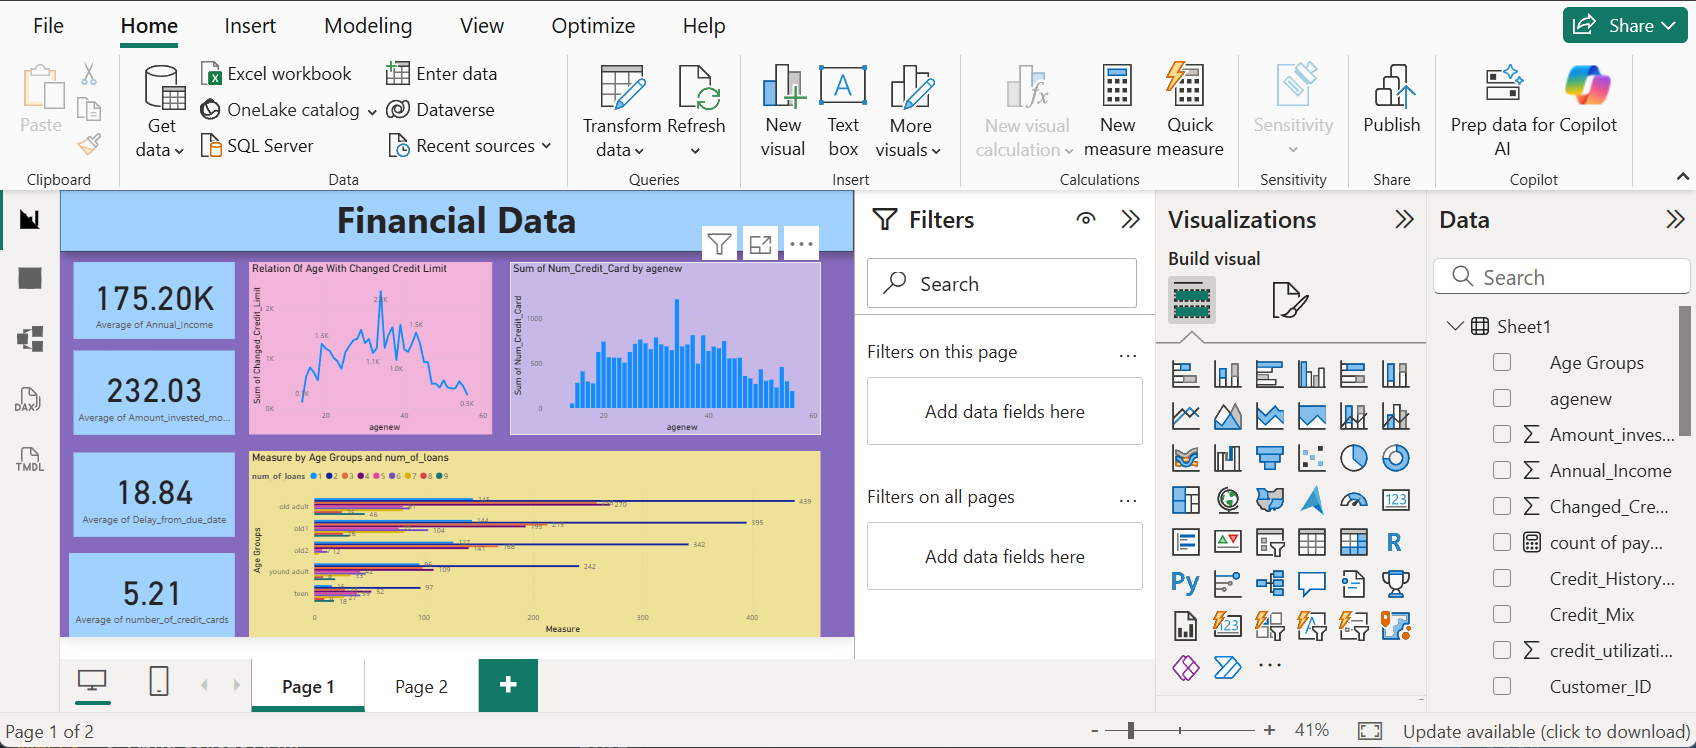

Layout of this report page (visuals, bound fields, positions):
{"tool":"powerbi","page":{"name":"Page 1","canvas":[1280,720],"ordinal":0},"visuals":[{"type":"card","fields":{"Values":["Avg(Sheet1.Annual_Income)"]},"box":[21.8,116.5,259.7,123.8],"z":0},{"type":"card","fields":{"Values":["Avg(Sheet1.Amount_invested_monthly)"]},"box":[21.8,259.7,259.7,135.9],"z":1000},{"type":"card","fields":{"Values":["Avg(Sheet1.Delay_from_due_date)"]},"box":[21.8,422.4,259.7,135.9],"z":2000},{"type":"card","fields":{"Values":["Avg(Sheet1.number_of_credit_cards)"]},"box":[14.6,585,267,135.9],"z":3000},{"type":"textbox","box":[0,0,1279.2,99.1],"z":4000},{"type":"lineChart","title":"Relation Of Age With Changed Credit Limit","fields":{"Y":["Sum(Sheet1.Changed_Credit_Limit)"],"Category":["Sheet1.agenew"]},"box":[304.7,116.1,391.7,278.1],"z":5000},{"type":"clusteredColumnChart","fields":{"Category":["Sheet1.agenew"],"Y":["Sum(Sheet1.Num_Credit_Card)"]},"box":[725.4,116.1,500.6,278.1],"z":6000},{"type":"clusteredBarChart","fields":{"Category":["Sheet1.Age Groups"],"Series":["Sheet1.num_of_loans"],"Y":["Sheet1.Measure"]},"box":[304.7,420.8,921.3,299.9],"z":6001}]}

Visuals, with their boxes on the page's 1280x720 design canvas (x1, y1, x2, y2). These are canvas units, not pixel positions in the 1696x748 screenshot, which may show the page scaled, cropped or inside an application window:
card - Avg(Sheet1.Annual_Income): crop(22, 116, 282, 240)
card - Avg(Sheet1.Amount_invested_monthly): crop(22, 260, 282, 396)
card - Avg(Sheet1.Delay_from_due_date): crop(22, 422, 282, 558)
card - Avg(Sheet1.number_of_credit_cards): crop(15, 585, 282, 721)
textbox: crop(0, 0, 1279, 99)
"Relation Of Age With Changed Credit Limit" lineChart: crop(305, 116, 696, 394)
clusteredColumnChart - Sheet1.agenew x Sum(Sheet1.Num_Credit_Card): crop(725, 116, 1226, 394)
clusteredBarChart - Sheet1.Age Groups x Sheet1.num_of_loans: crop(305, 421, 1226, 721)
